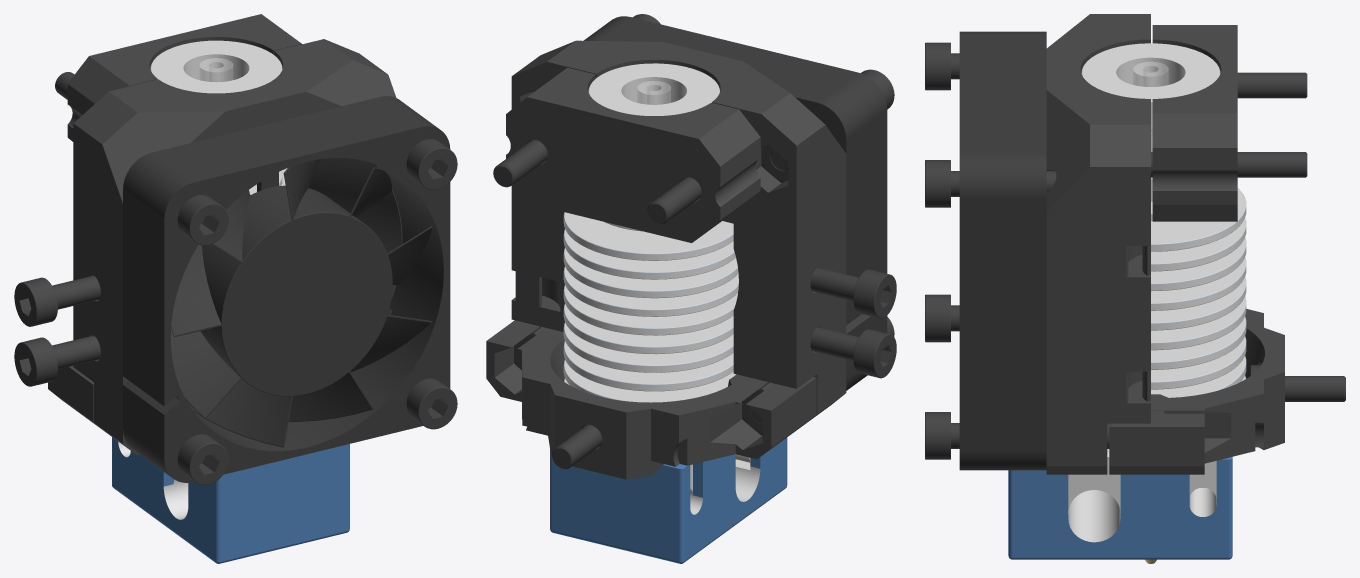
3 renders of one model, left to right at view 1: azimuth 30°, elevation 25°; view 2: azimuth 150°, elevation 25°; view 3: azimuth 270°, elevation 25°, orthographic. The views are drawn at different scales.
Parts seen in each view (by area): view 1: 4010 FAN, v6_face, V6 HOTEND, v6_face_clamp, DIN 912 M3 10 mm (×2), DIN 912 M3 20 mm (×2), DIN 912 M3 25 mm (×2), v6_support, PTFE 33.1mm; view 2: V6 HOTEND, v6_face, v6_face_clamp, v6_support, 4010 FAN, DIN 912 M3 10 mm (×2), DIN 912 M3 25 mm (×2), DIN 912 M3 8 mm, DIN 912 M3 20 mm, PTFE 33.1mm; view 3: V6 HOTEND, v6_face, 4010 FAN, v6_support, v6_face_clamp, DIN 912 M3 25 mm (×4), DIN 912 M3 20 mm (×2), DIN 912 M3 8 mm, PTFE 33.1mm.
Part boxes in pixels (x1,y1,x2,y2): 4010 FAN: [123, 96, 450, 482]; v6_face: [73, 39, 402, 455]; V6 HOTEND: [112, 40, 349, 563]; v6_face_clamp: [67, 14, 302, 141]; DIN 912 M3 10 mm (×2): [14, 275, 100, 386]; DIN 912 M3 20 mm (×2): [177, 139, 457, 245]; DIN 912 M3 25 mm (×2): [177, 378, 457, 485]; v6_support: [48, 366, 104, 431]; PTFE 33.1mm: [199, 58, 233, 82]; V6 HOTEND: [550, 63, 787, 563]; v6_face: [511, 40, 846, 423]; v6_face_clamp: [506, 67, 760, 242]; v6_support: [486, 320, 816, 479]; 4010 FAN: [583, 16, 887, 390]; DIN 912 M3 10 mm (×2): [810, 267, 896, 378]; DIN 912 M3 25 mm (×2): [493, 139, 701, 224]; DIN 912 M3 8 mm: [552, 424, 602, 469]; DIN 912 M3 20 mm: [770, 69, 894, 170]; PTFE 33.1mm: [637, 81, 670, 104]; V6 HOTEND: [1008, 43, 1246, 563]; v6_face: [1046, 14, 1150, 474]; 4010 FAN: [959, 31, 1046, 470]; v6_support: [1109, 309, 1284, 474]; v6_face_clamp: [1152, 25, 1237, 221]; DIN 912 M3 25 mm (×4): [925, 72, 1307, 459]; DIN 912 M3 20 mm (×2): [925, 42, 1056, 207]; DIN 912 M3 8 mm: [1250, 365, 1345, 401]; PTFE 33.1mm: [1133, 61, 1168, 86].
Size of the model in its own units: 0.0496 by 0.0485 by 0.0626.
